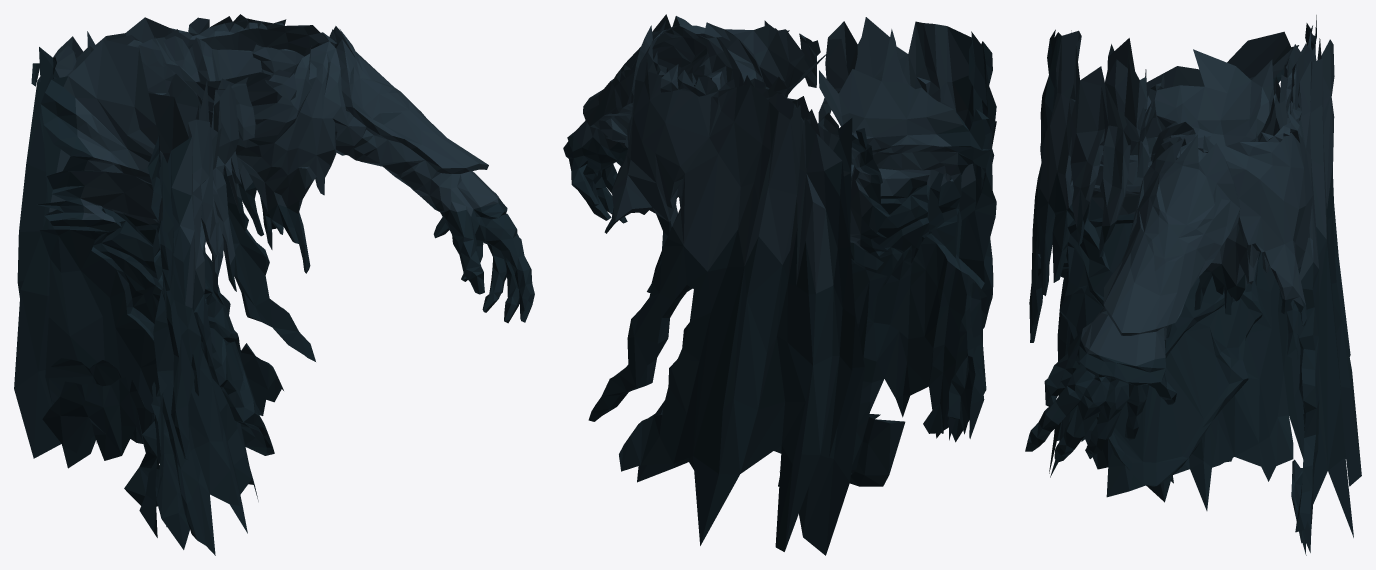
File: reaper_arm_l.obj
3 renders of one model, left to right at view 1: azimuth 30°, elevation 25°; view 2: azimuth 150°, elevation 25°; view 3: azimuth 270°, elevation 25°, orthographic. The views are drawn at different scales.
Parts seen in each view (by area): view 1: Reaper_LeftArm; view 2: Reaper_LeftArm; view 3: Reaper_LeftArm.
Part boxes in pixels (bbox=[...]): Reaper_LeftArm: bbox=[14, 14, 534, 555]; Reaper_LeftArm: bbox=[563, 14, 996, 555]; Reaper_LeftArm: bbox=[1025, 15, 1361, 555].
Size of the model in its own units: 0.6266 by 0.7052 by 0.4545.
